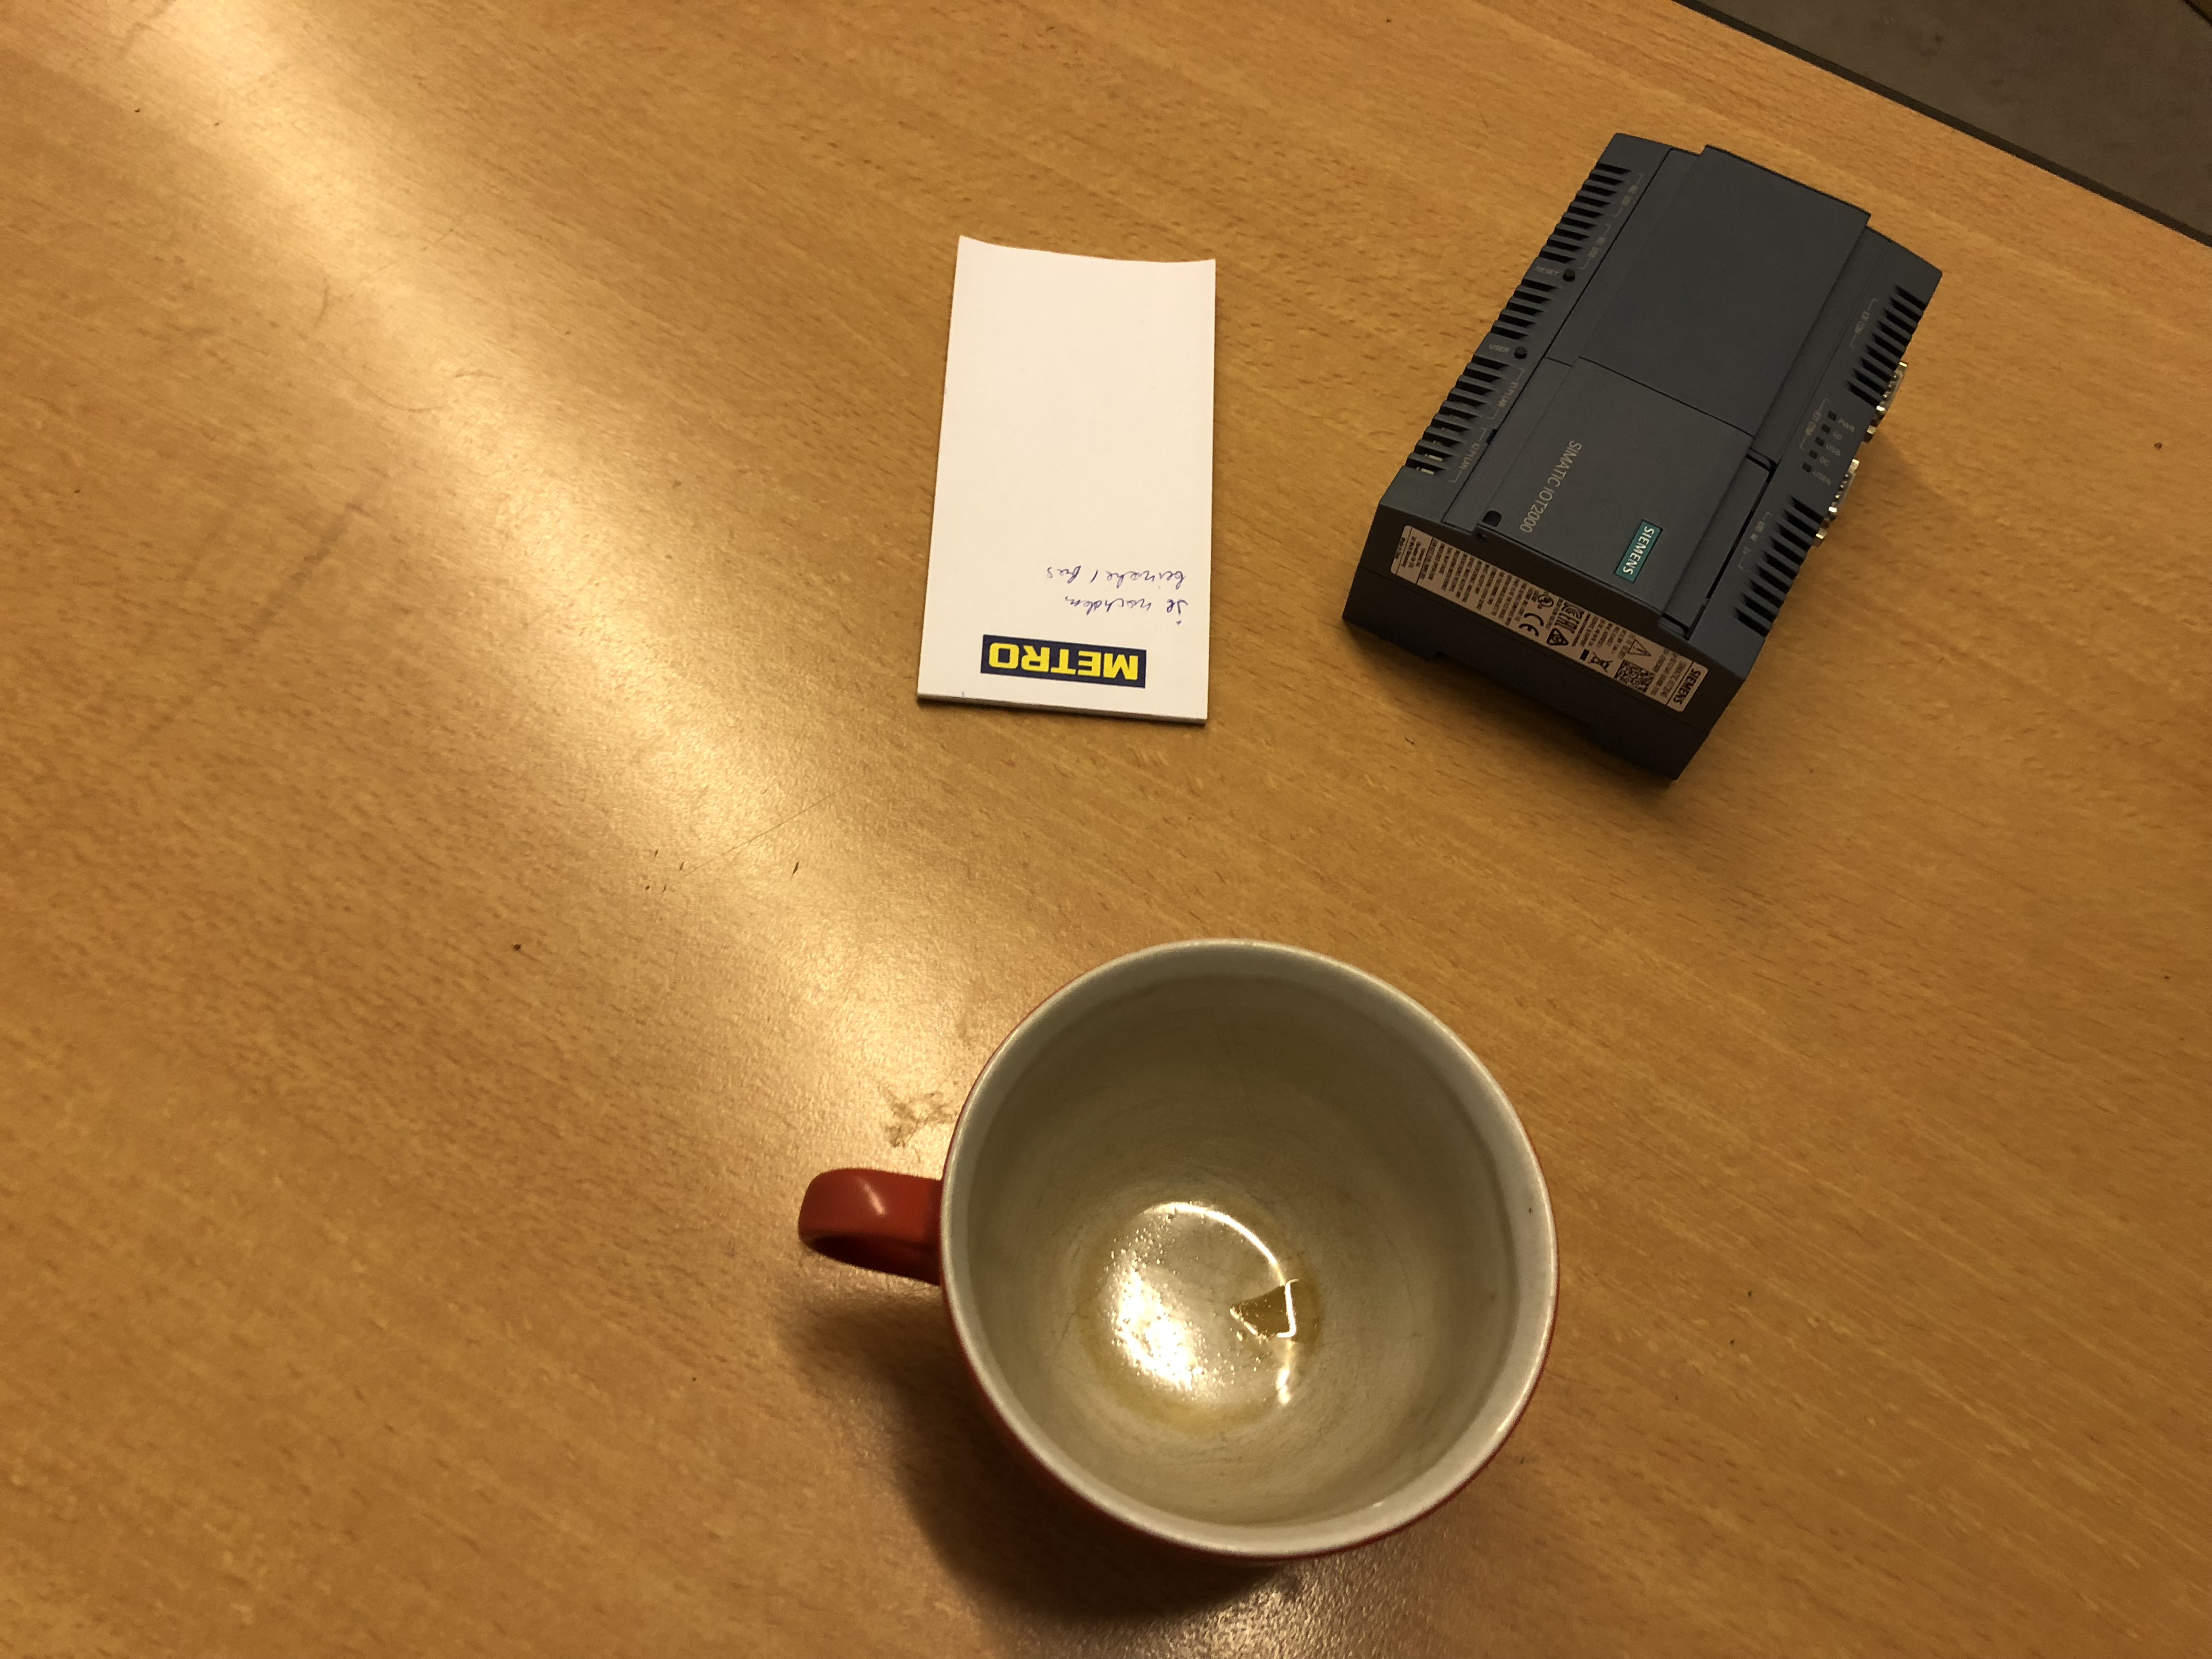device: (1341, 131, 1946, 782)
